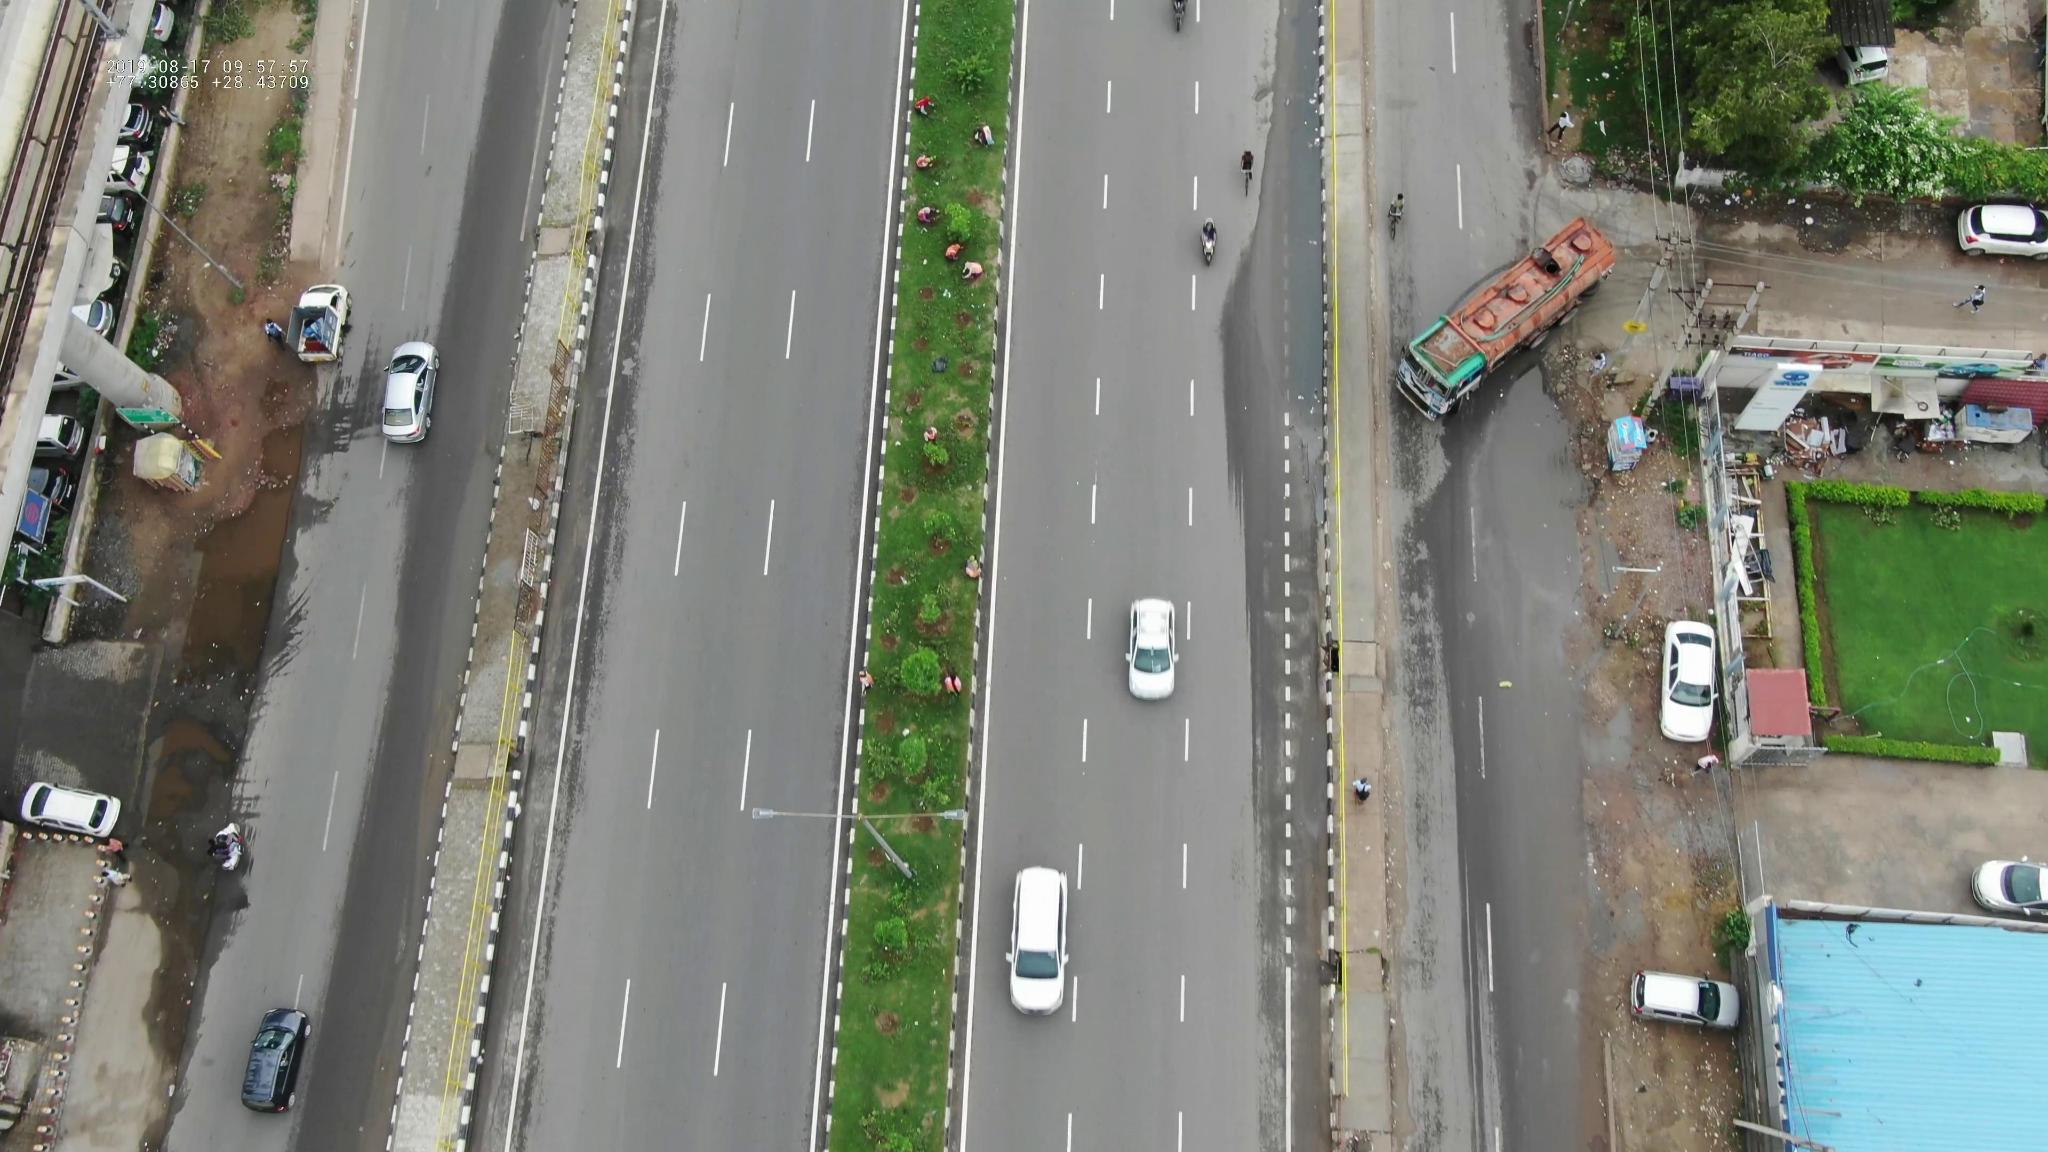Waterlogging: (1495, 371, 1609, 633)
